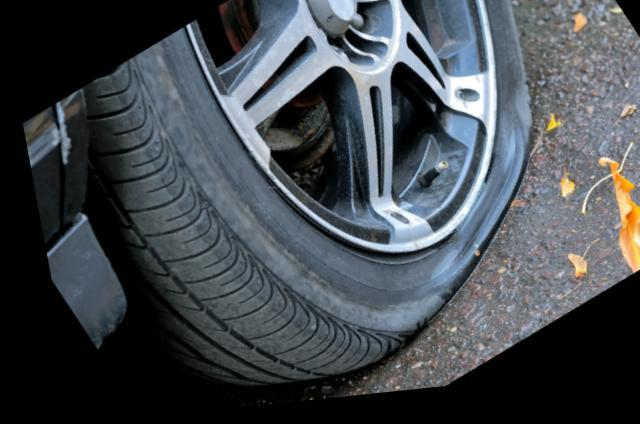tire flat: (77, 0, 528, 387)
